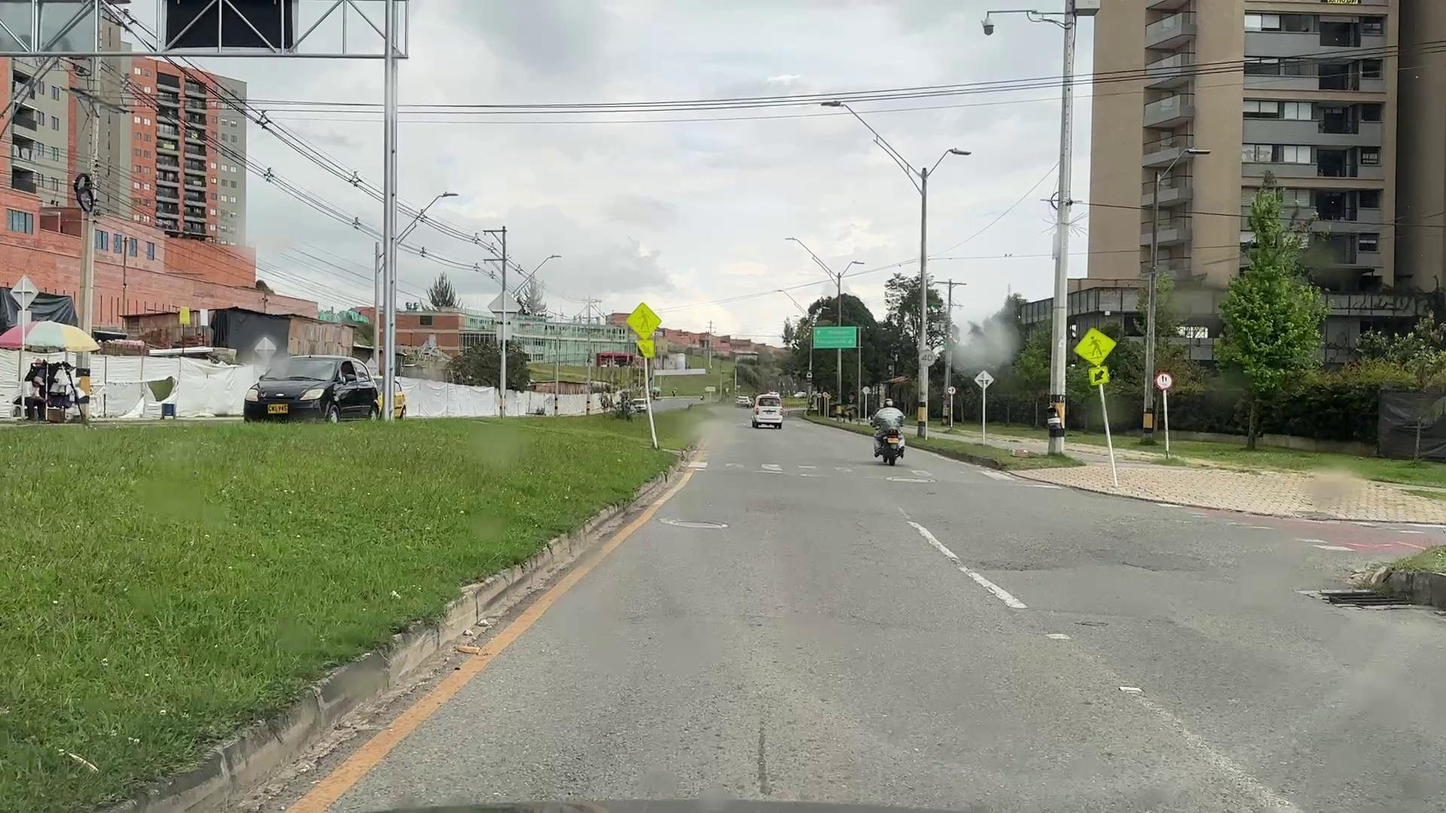registro: (673, 521, 723, 527), (892, 477, 931, 482)
rejilla: (1300, 589, 1435, 610)
